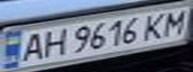1: (106, 17, 127, 47)
6: (121, 15, 148, 45), (87, 20, 112, 51)
9: (69, 22, 93, 54)
A: (15, 29, 48, 63)
H: (36, 26, 69, 59)
K: (139, 10, 172, 40)
M: (157, 7, 190, 37)
